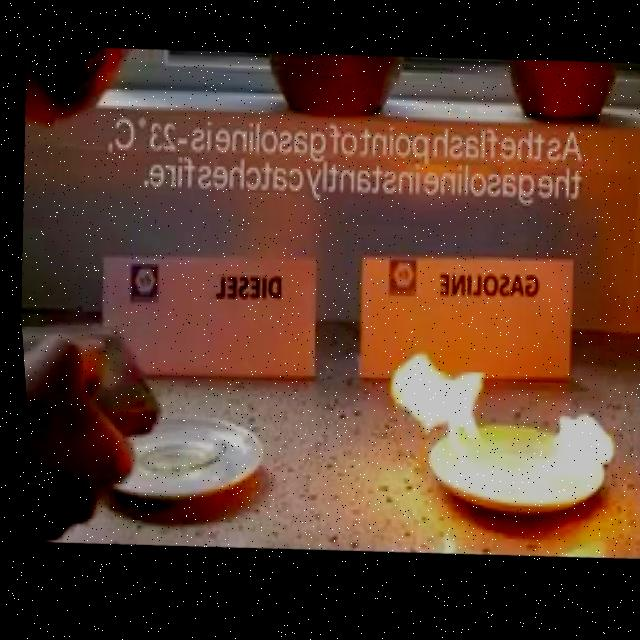Fire: (368, 334, 625, 525)
